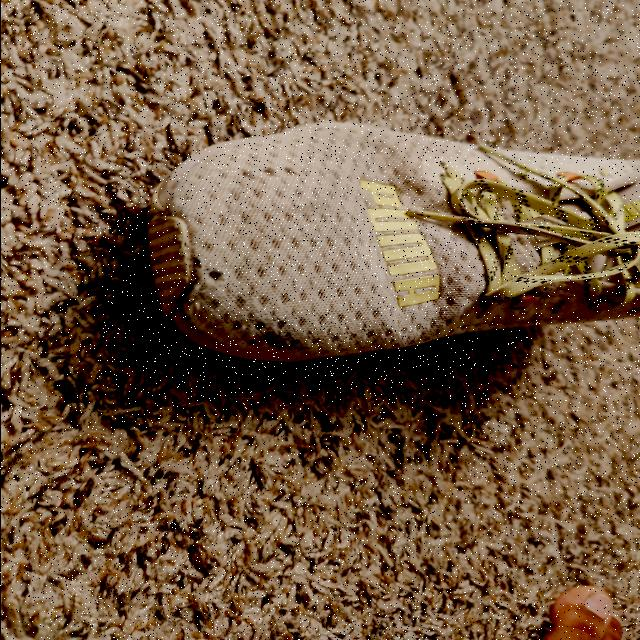white shoes: (158, 160, 640, 352)
